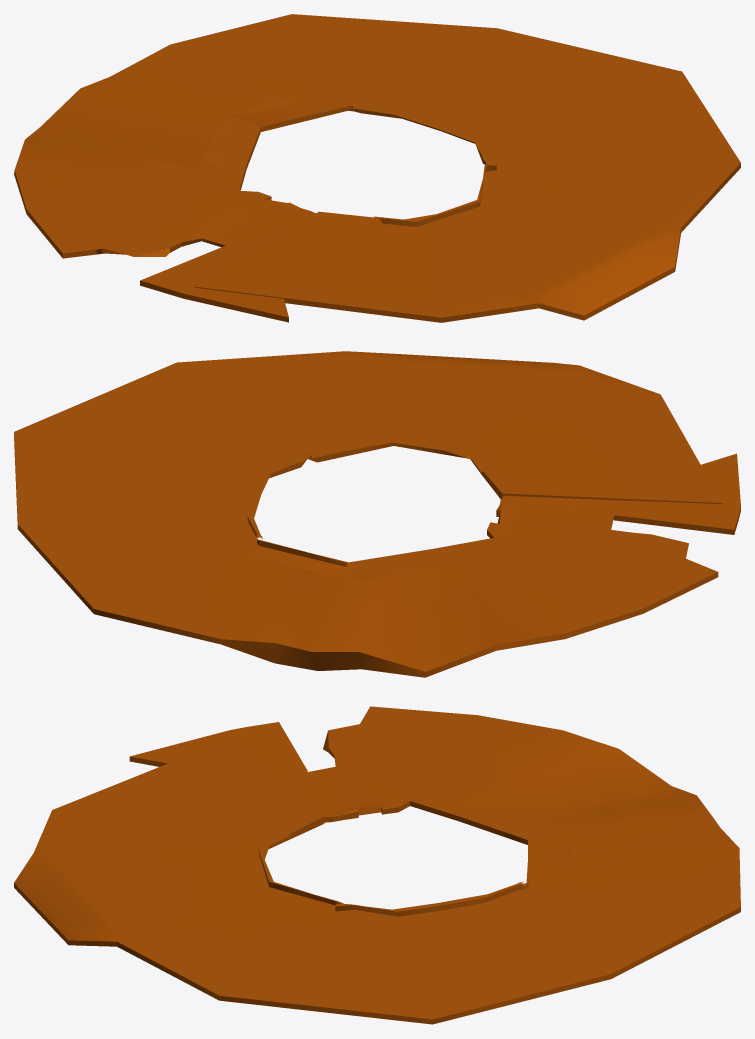
The model's file is 2 transparent layer 1,5.fbx.
3 views of the same model, one above another, from view 1: azimuth 30°, elevation 25°; view 2: azimuth 150°, elevation 25°; view 3: azimuth 270°, elevation 25° (orthographic). The views are drawn at different scales.
Parts seen in each view (by area): view 1: polySurface3016; view 2: polySurface3016; view 3: polySurface3016.
Part boxes in pixels (box(x1,y1,x2,y2)): polySurface3016: box(14, 14, 740, 322); polySurface3016: box(14, 351, 740, 677); polySurface3016: box(14, 706, 740, 1024).
Size of the model in its own units: 71.33 by 3.32 by 70.
